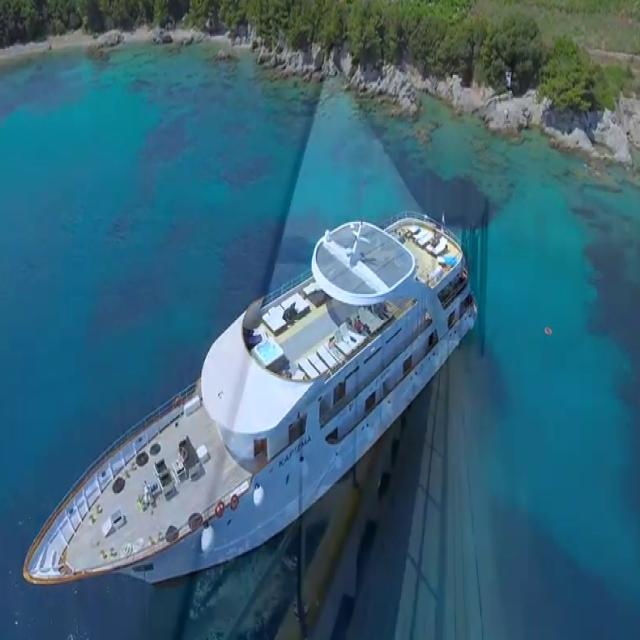passenger ship: (8, 212, 475, 598)
